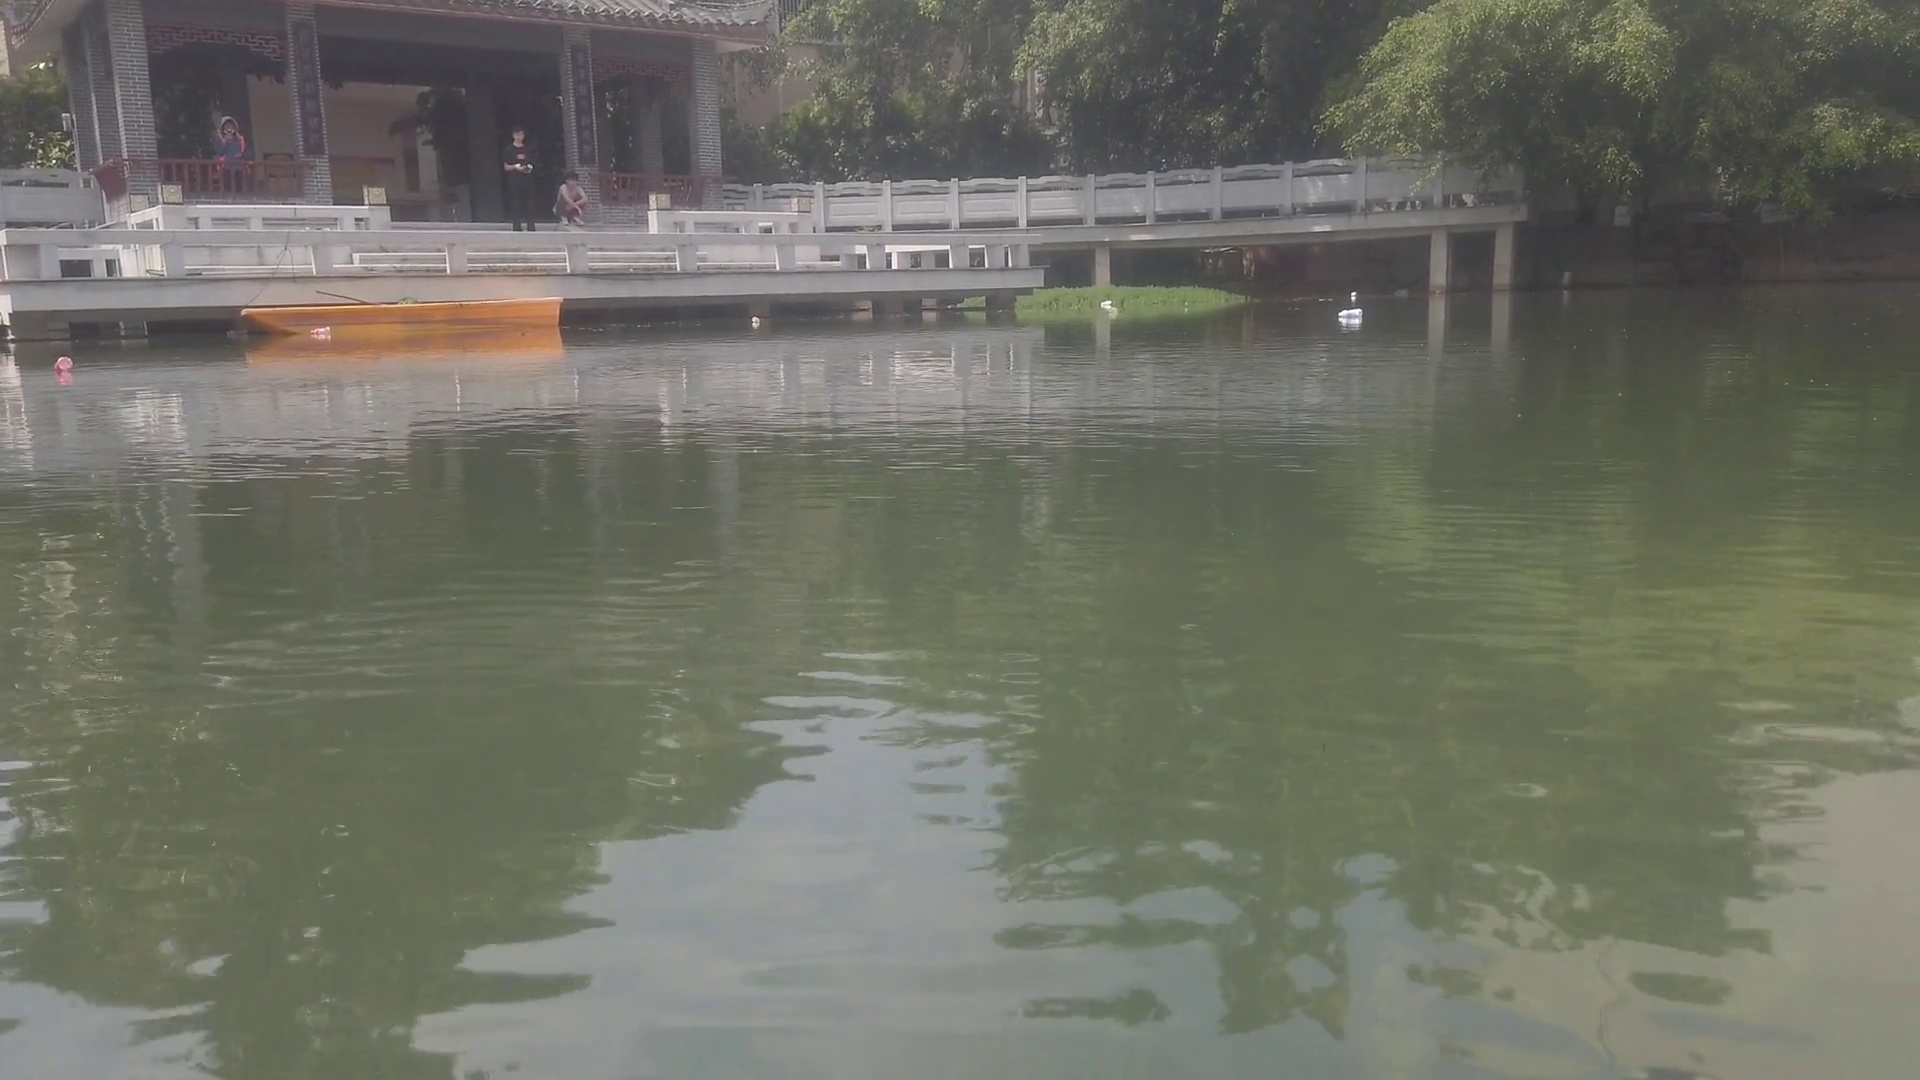bottle: (50, 351, 76, 373), (306, 323, 332, 338), (1337, 307, 1362, 320), (750, 314, 760, 328)
carton: (1349, 287, 1360, 298)
plastic: (1101, 297, 1116, 310)
